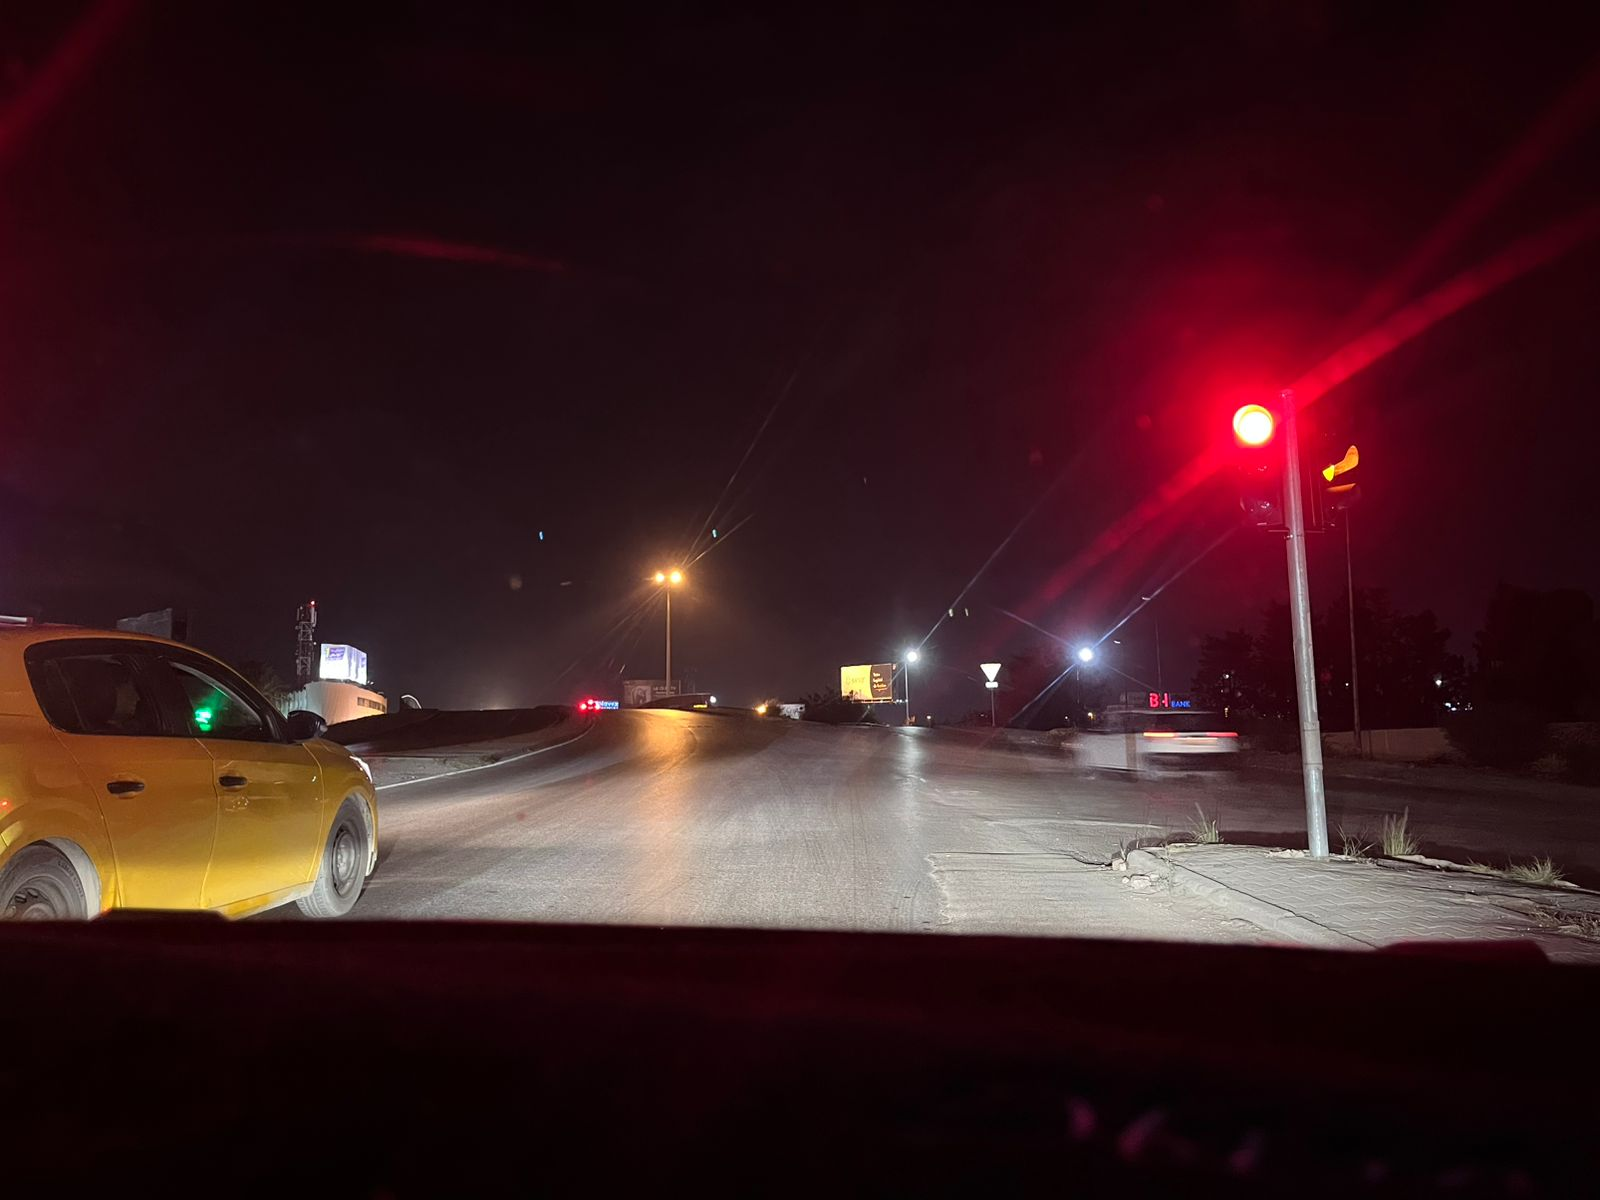RedLight: (1216, 392, 1295, 539)
